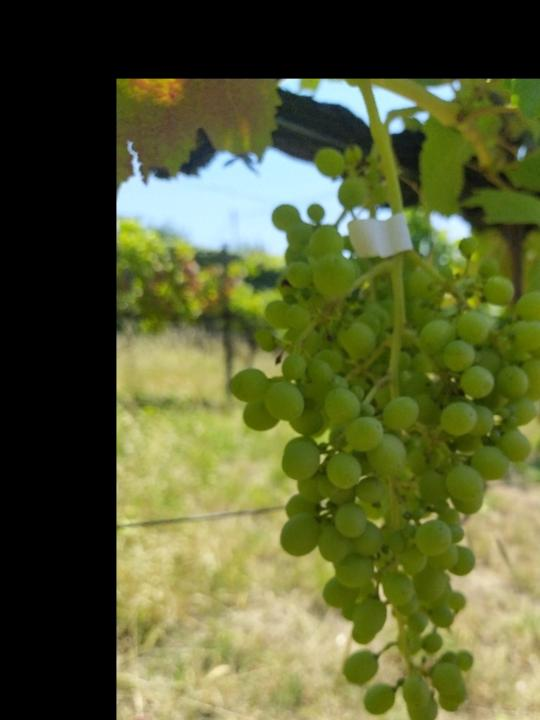grape: (222, 202, 540, 720)
